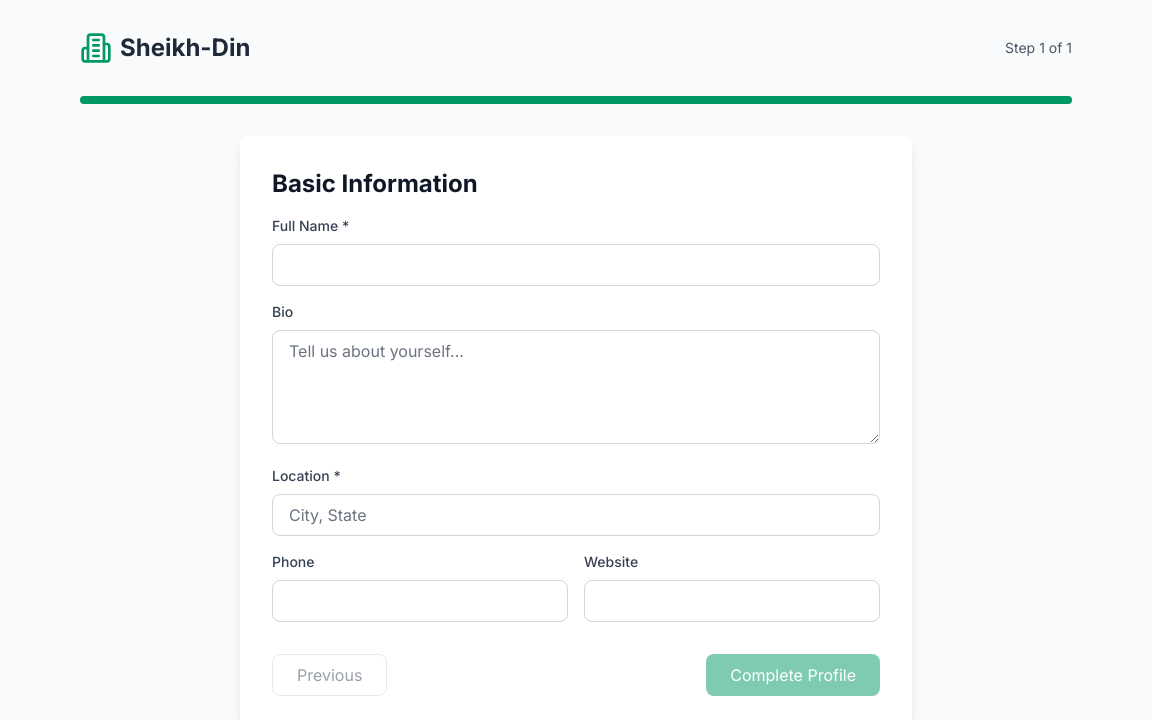
Test: Onboarding Flow › Error Handling › should handle network errors
// Fill required fields
In the field labelled "Full Name *": (576,265) [272,244,880,286], type "Test User"
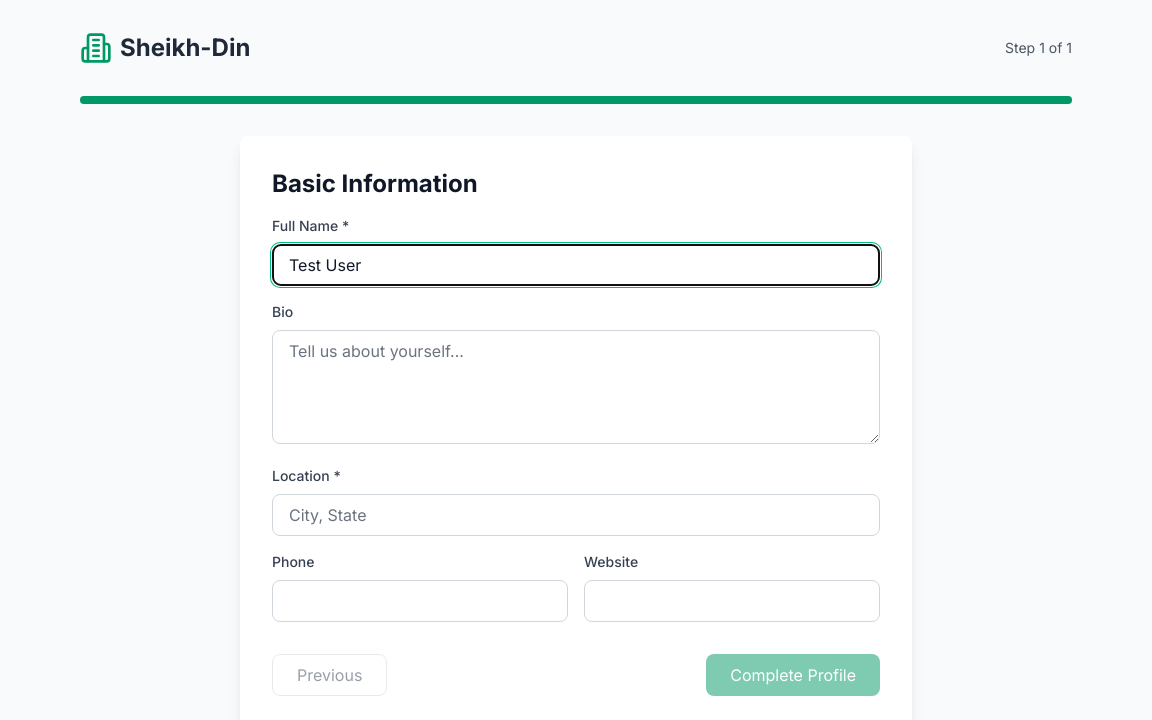
In the field labelled "Location *": (576,515) [272,494,880,536], type "Test City"
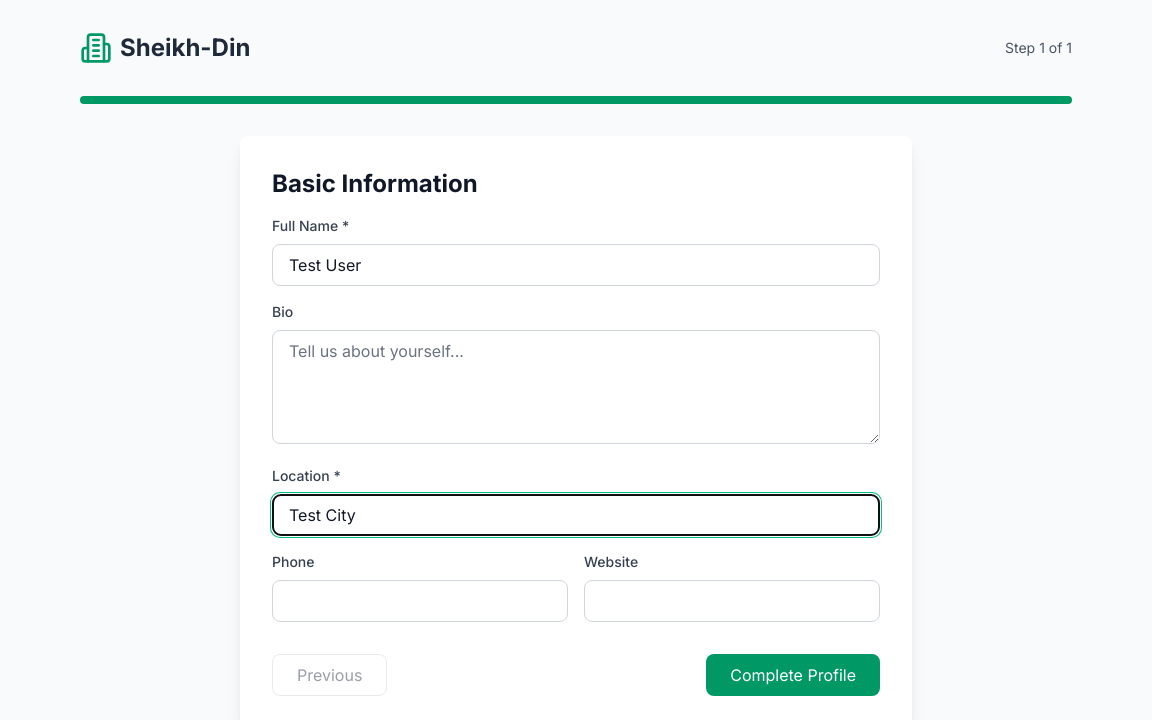
// Complete profile
Click the button "Complete Profile": (793,675) [706,654,880,696]
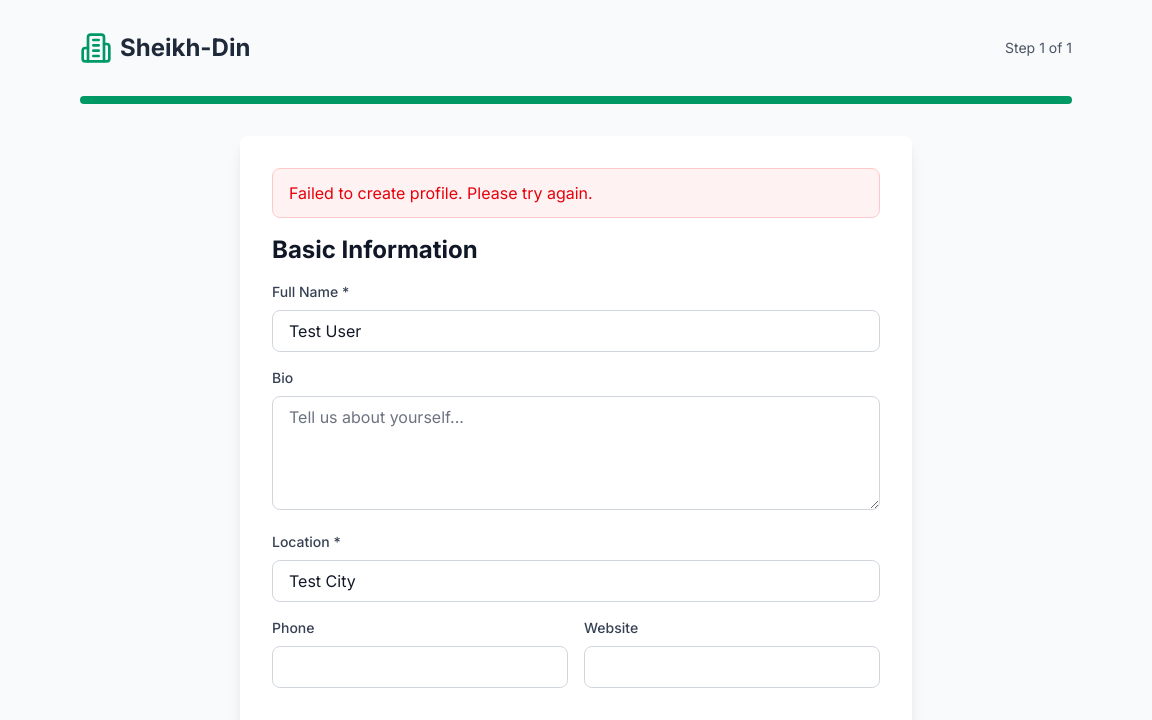
Result: the text "Failed to create profile. Please try again." is shown at [272,168,880,218]
